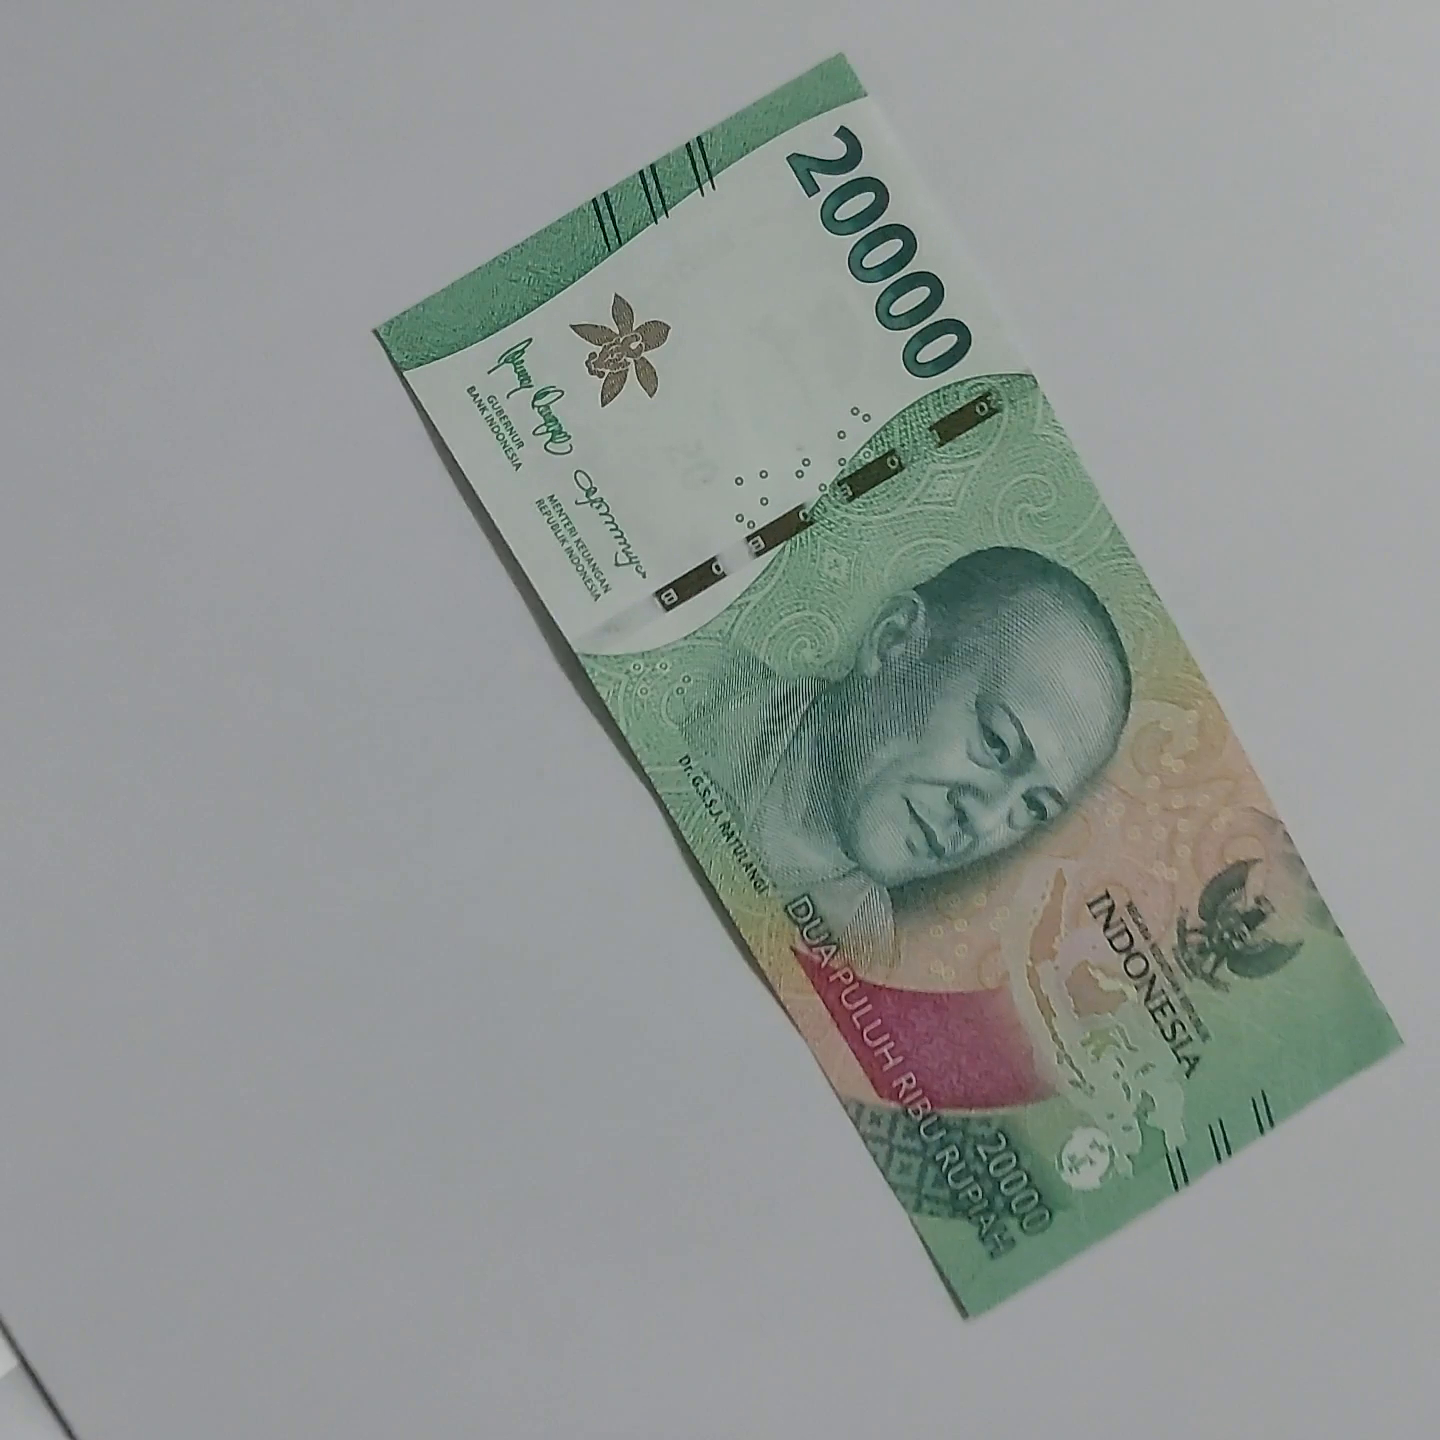20k: (361, 0, 1424, 1398)
